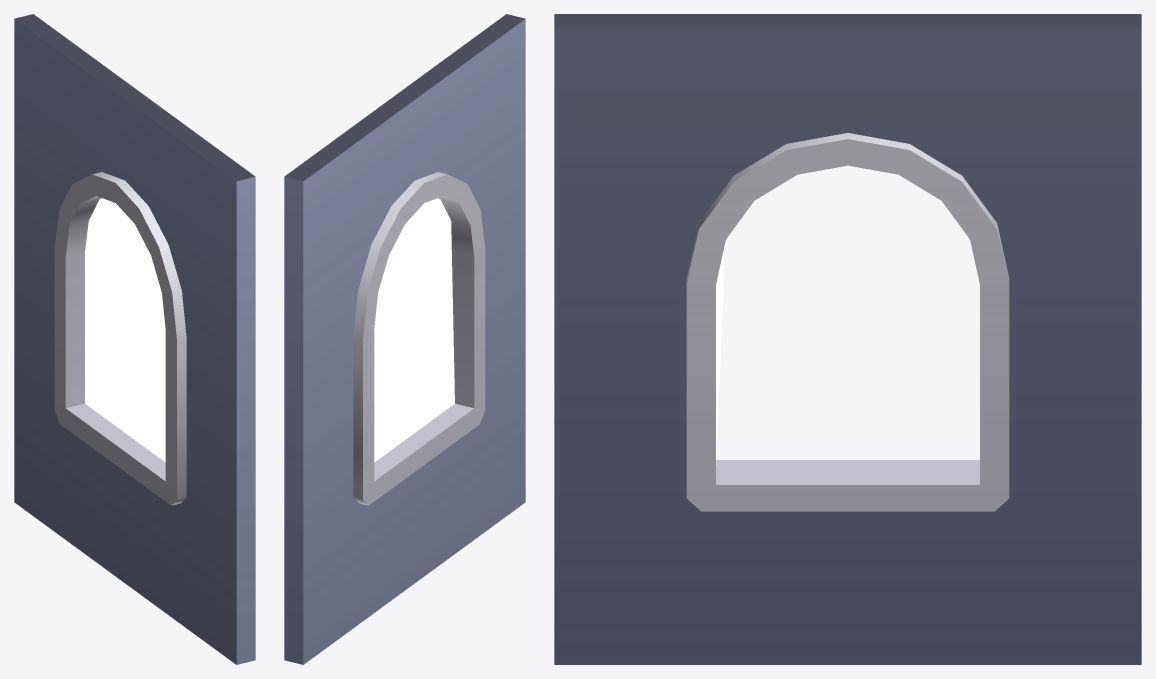
File: Wall Window Round.glb
3 views of the same model, side by side, from view 1: azimuth 30°, elevation 25°; view 2: azimuth 150°, elevation 25°; view 3: azimuth 270°, elevation 25° (orthographic). The views are drawn at different scales.
Parts seen in each view (by area): view 1: wall-window-round, (%ignore); view 2: wall-window-round, (%ignore); view 3: wall-window-round, (%ignore).
Boxes of the visible parts, bbox=[...] form: wall-window-round: bbox=[14, 14, 255, 664]; (%ignore): bbox=[85, 198, 165, 462]; wall-window-round: bbox=[284, 14, 525, 664]; (%ignore): bbox=[374, 198, 454, 462]; wall-window-round: bbox=[554, 14, 1141, 664]; (%ignore): bbox=[716, 243, 725, 465].
Bounding box in the file's own units: 0.2 × 2.4 × 2.
2 materials, 1 textured.
